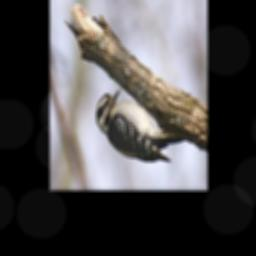Woodpecker: (90, 86, 187, 169)
